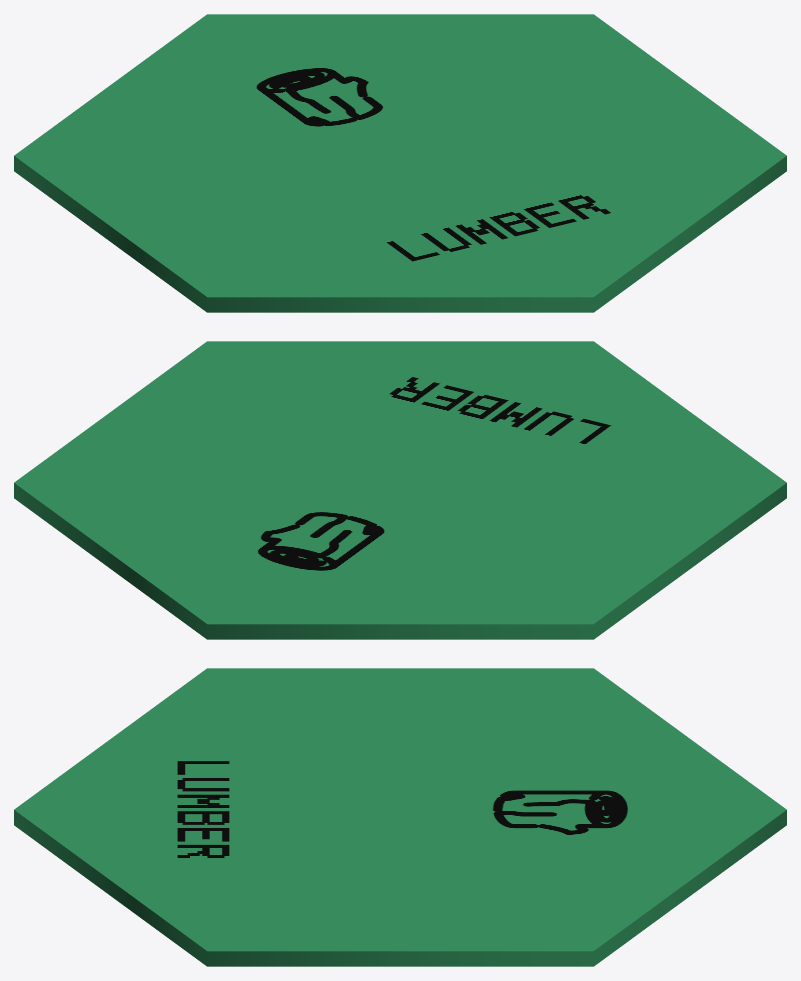
The model's file is tile-lumber.gltf.
3 renders of one model, top to bottom at view 1: azimuth 30°, elevation 25°; view 2: azimuth 150°, elevation 25°; view 3: azimuth 270°, elevation 25°, orthographic.
Bounding box in the file's own units: 0.0779 × 0.002 × 0.09.
2 materials, 1 textured.
